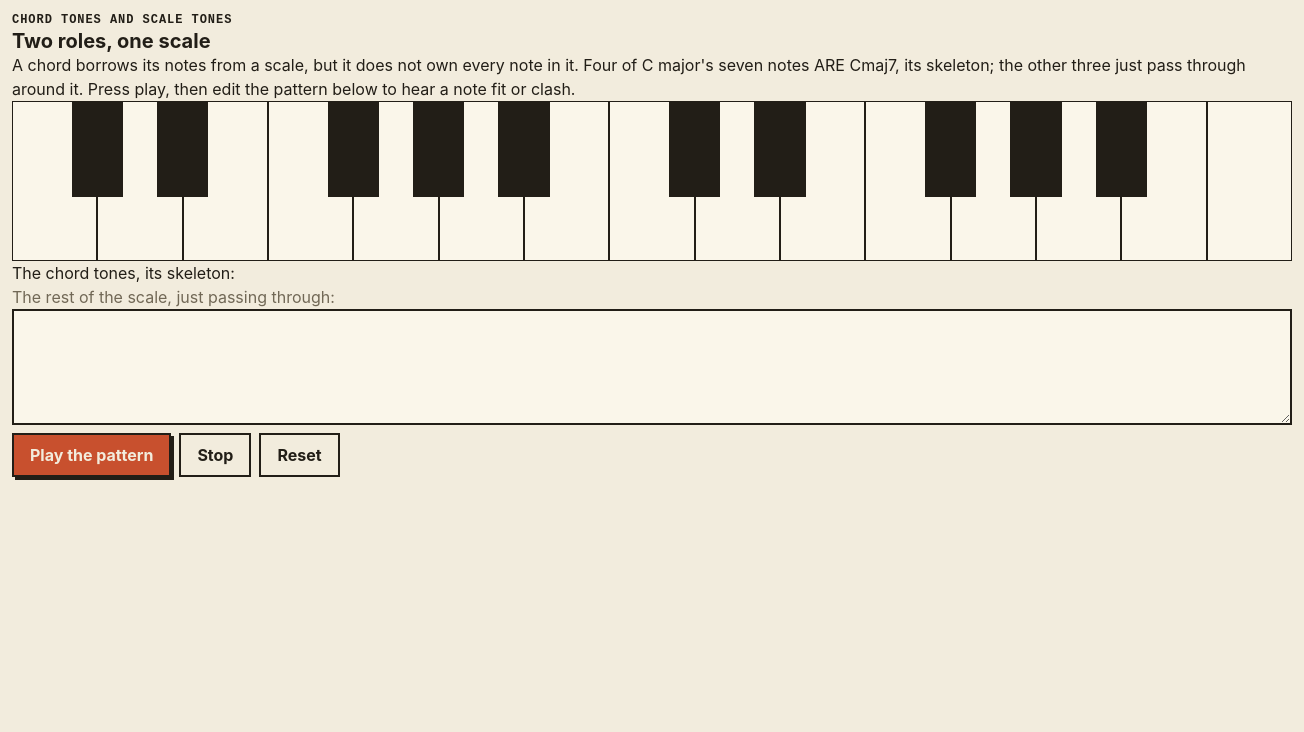
it: the editable pattern › shows the engine’s own error when the pattern fails, and clears it on the next play
The image size is (1304, 732).
Click the button "Play the pattern" at [92, 455], box [12, 433, 171, 477]
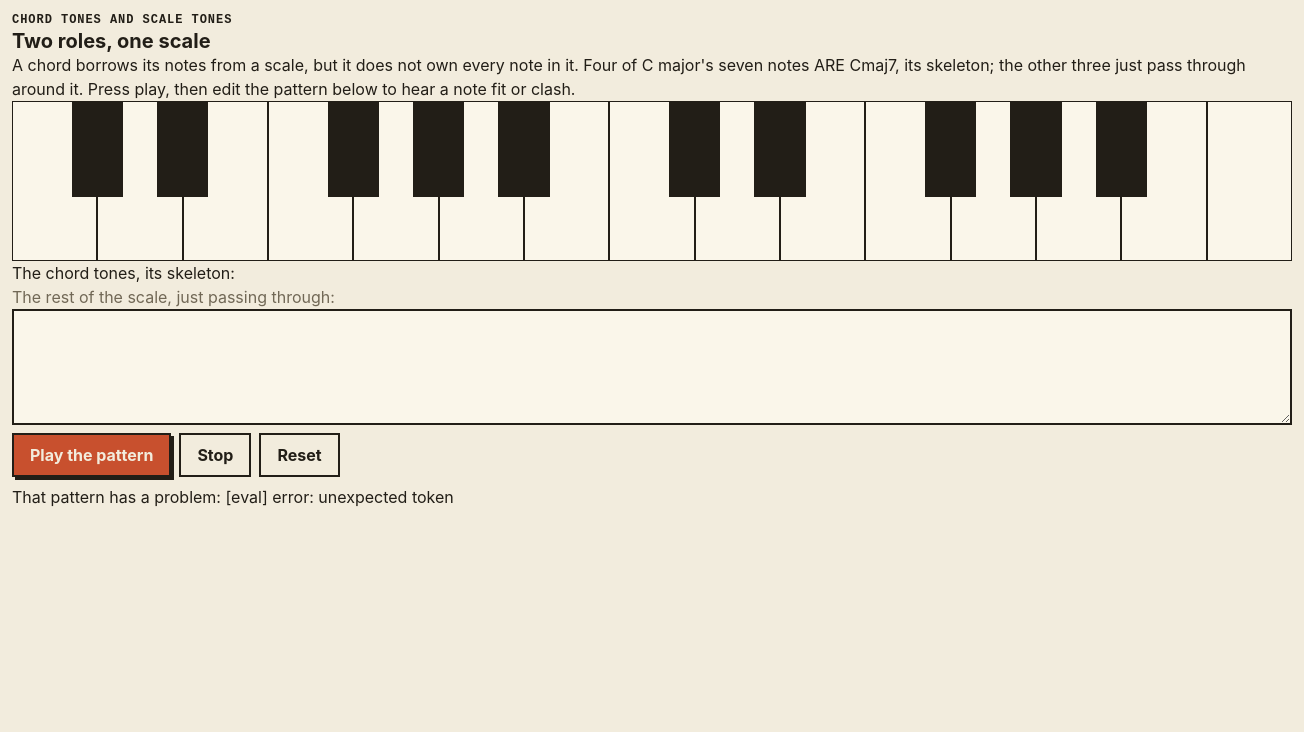
Expected: the text with test id "chord-scale-error" reads "That pattern has a problem: [eval] error: unexpected token", [12, 487, 454, 507]
Click the button "Play the pattern" at [92, 455], box [12, 433, 171, 477]
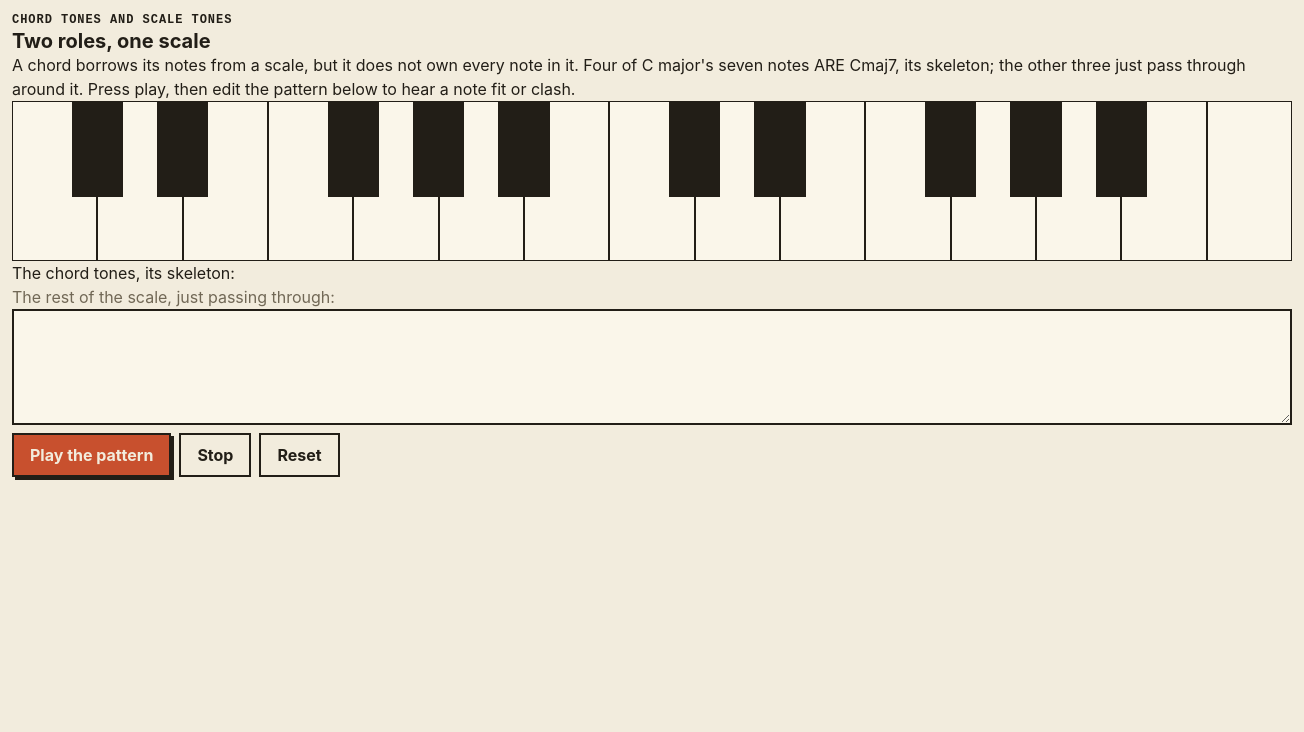
Expected: the text with test id "chord-scale-error" is gone
